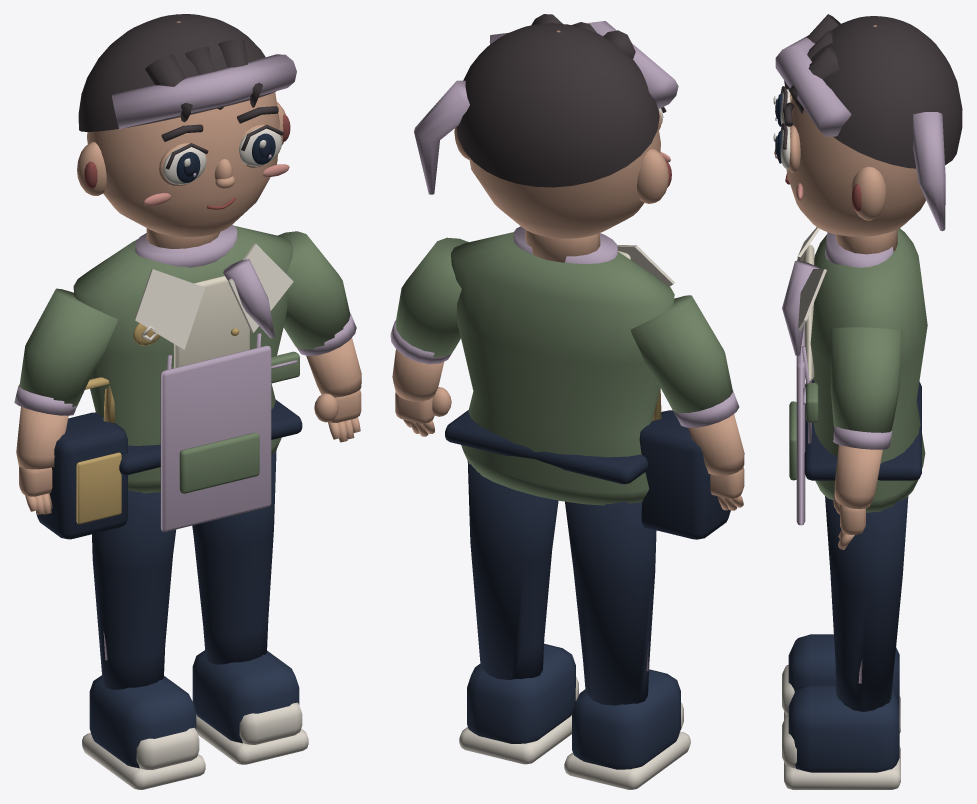
The model's file is npc_graveyard_trainer_3.glb.
The picture shows the model from 3 angles, left to right: view 1: azimuth 30°, elevation 25°; view 2: azimuth 150°, elevation 25°; view 3: azimuth 270°, elevation 25°; orthographic projection.
Visible parts, largest first — view 1: figure.053; view 2: figure.053; view 3: figure.053.
Boxes of the visible parts, x1,y1,x2,y2 form: figure.053: (14, 14, 361, 789); figure.053: (390, 14, 744, 789); figure.053: (773, 14, 962, 789).
Size of the model in its own units: 0.7842 by 1.58 by 0.3738.
